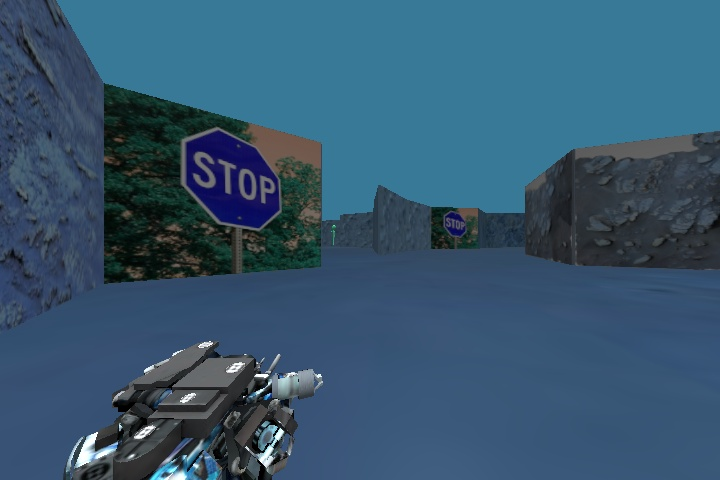stop_sign: (177, 120, 290, 239), (438, 207, 471, 240)
